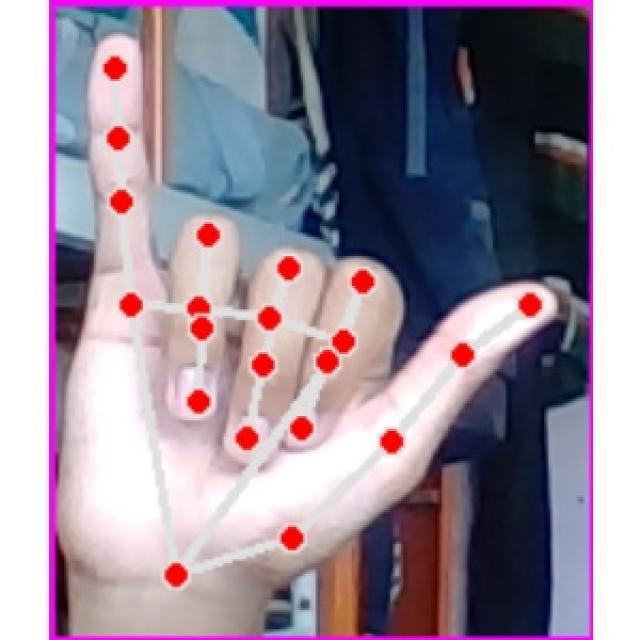Y: (71, 29, 563, 587)
